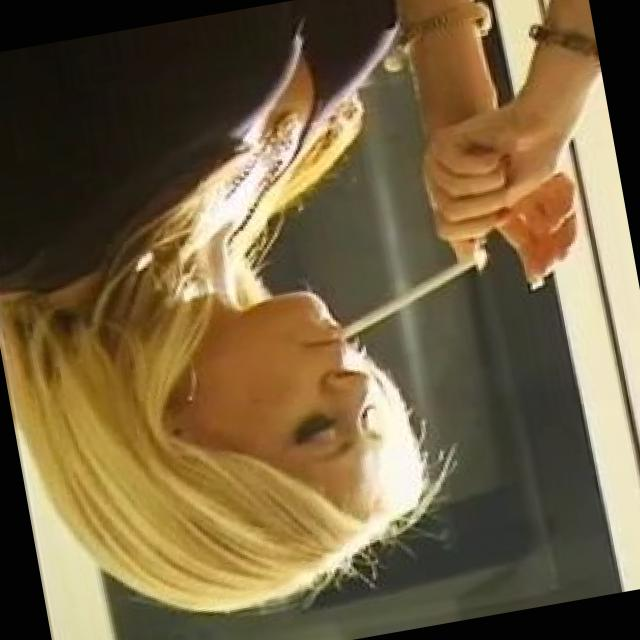cigarette: (322, 243, 496, 352)
